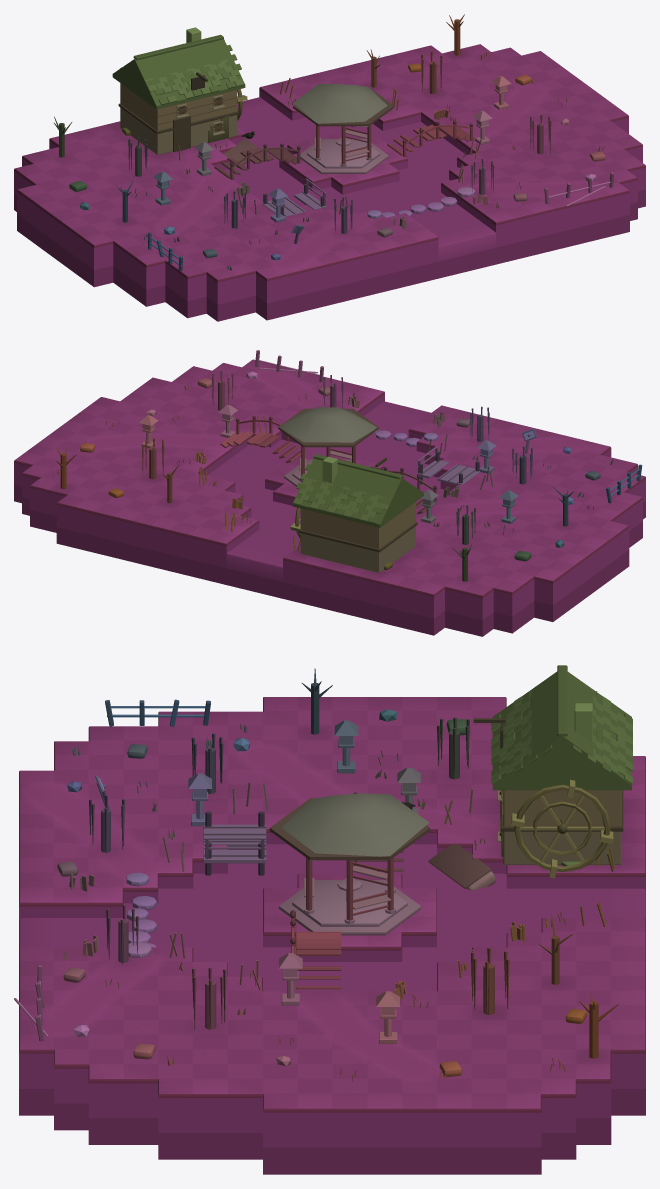
File: river_1_withered.glb
The picture shows the model from 3 angles, top to bottom: view 1: azimuth 30°, elevation 25°; view 2: azimuth 150°, elevation 25°; view 3: azimuth 270°, elevation 25°; orthographic projection. The views are drawn at different scales.
Parts seen in each view (by area): view 1: Terrain.001, Buildings, Props, Trees, Greenery; view 2: Terrain.001, Buildings, Props, Trees, Greenery; view 3: Terrain.001, Buildings, Props, Trees, Greenery.
Boxes of the visible parts, x1=… form: Terrain.001: x1=14, y1=44, x2=645, y2=321; Buildings: x1=112, y1=27, x2=394, y2=173; Props: x1=80, y1=76, x2=614, y2=271; Trees: x1=54, y1=14, x2=551, y2=233; Greenery: x1=69, y1=52, x2=605, y2=270; Terrain.001: x1=14, y1=359, x2=645, y2=636; Buildings: x1=278, y1=407, x2=423, y2=572; Props: x1=139, y1=350, x2=642, y2=547; Trees: x1=56, y1=370, x2=573, y2=581; Greenery: x1=52, y1=378, x2=613, y2=569; Terrain.001: x1=19, y1=697, x2=645, y2=1174; Buildings: x1=269, y1=665, x2=632, y2=935; Props: x1=14, y1=699, x2=613, y2=1066; Trees: x1=89, y1=668, x2=618, y2=1058; Greenery: x1=57, y1=719, x2=614, y2=1081.
Bounding box in the file's own units: 28 × 6.68 × 18.14.
Materials: 37 (1 with a texture image).
